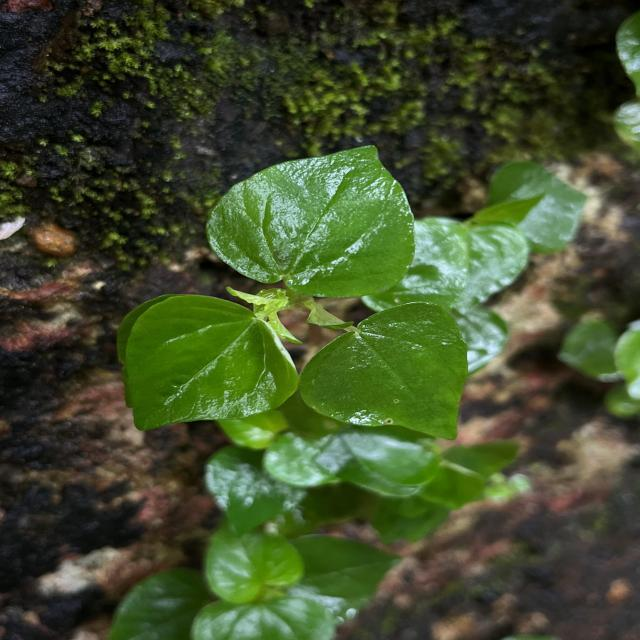Peperomia pellucida: (202, 142, 418, 300), (293, 298, 472, 444), (122, 292, 302, 434)
